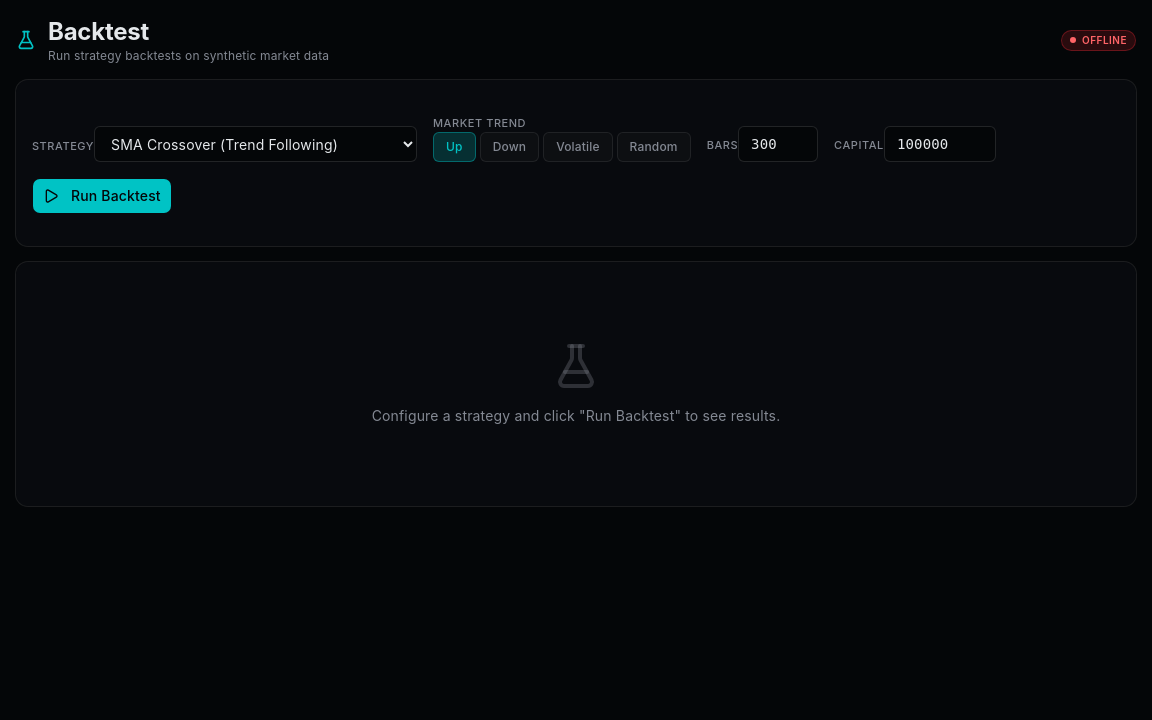
Test case: BacktestPage › shows engine error explanation when engine fails
Step 1. Click the button "Run Backtest" → coordinates (102, 196), box [32, 178, 172, 214]
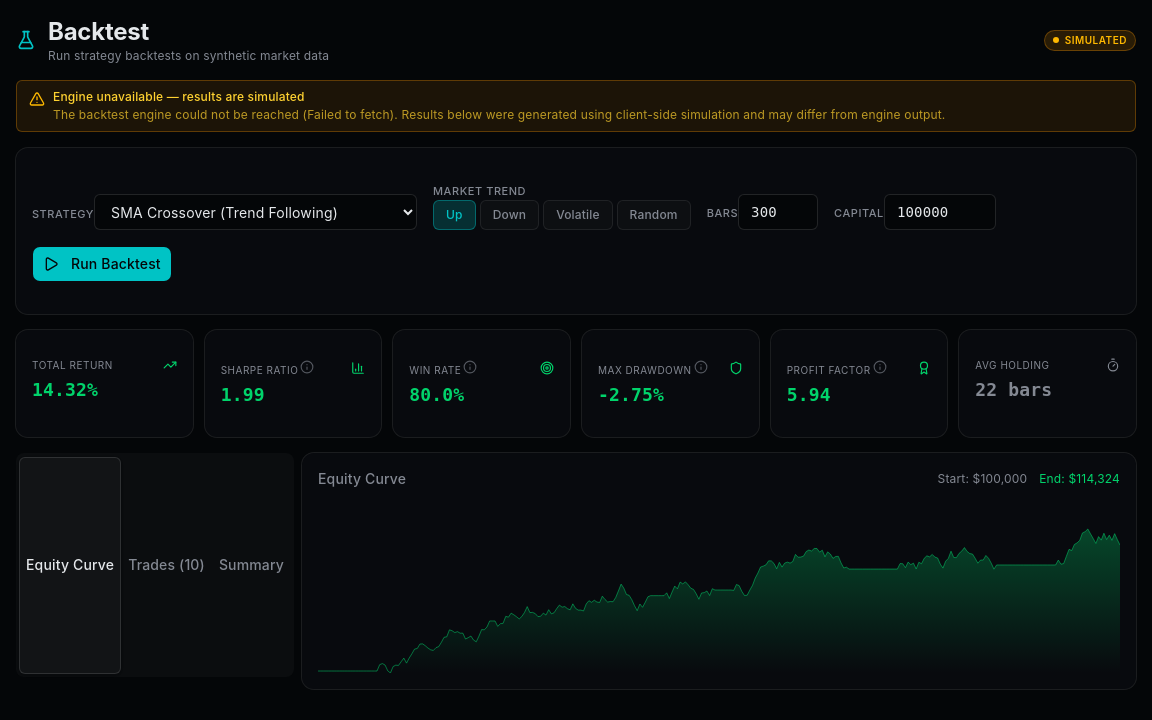
Result: the text "Total Return" is shown at [32, 358, 113, 372]
Result: the 2nd message is shown at [16, 80, 1136, 132]
Result: the 2nd message shows "Engine unavailable" at [53, 89, 305, 104]
